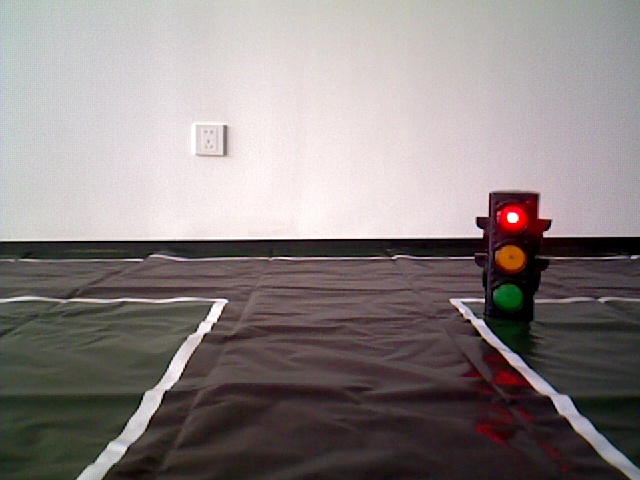red: (489, 196, 531, 322)
